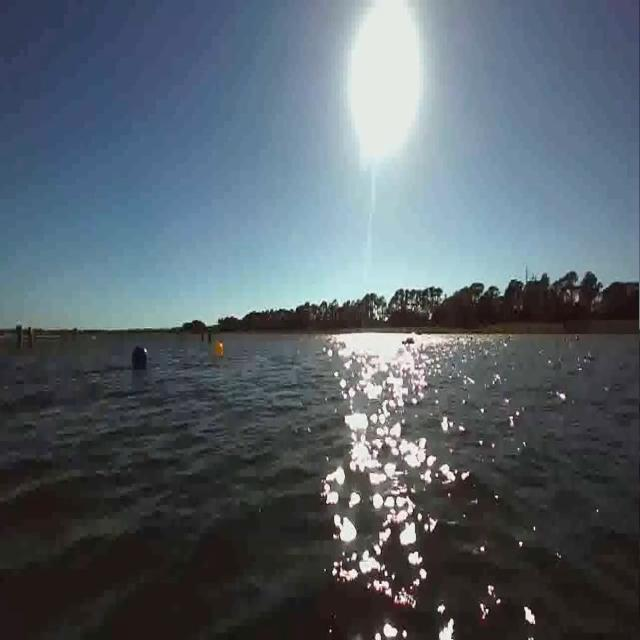black-buoy: (133, 344, 149, 371)
yellow-buoy: (214, 339, 225, 358)
